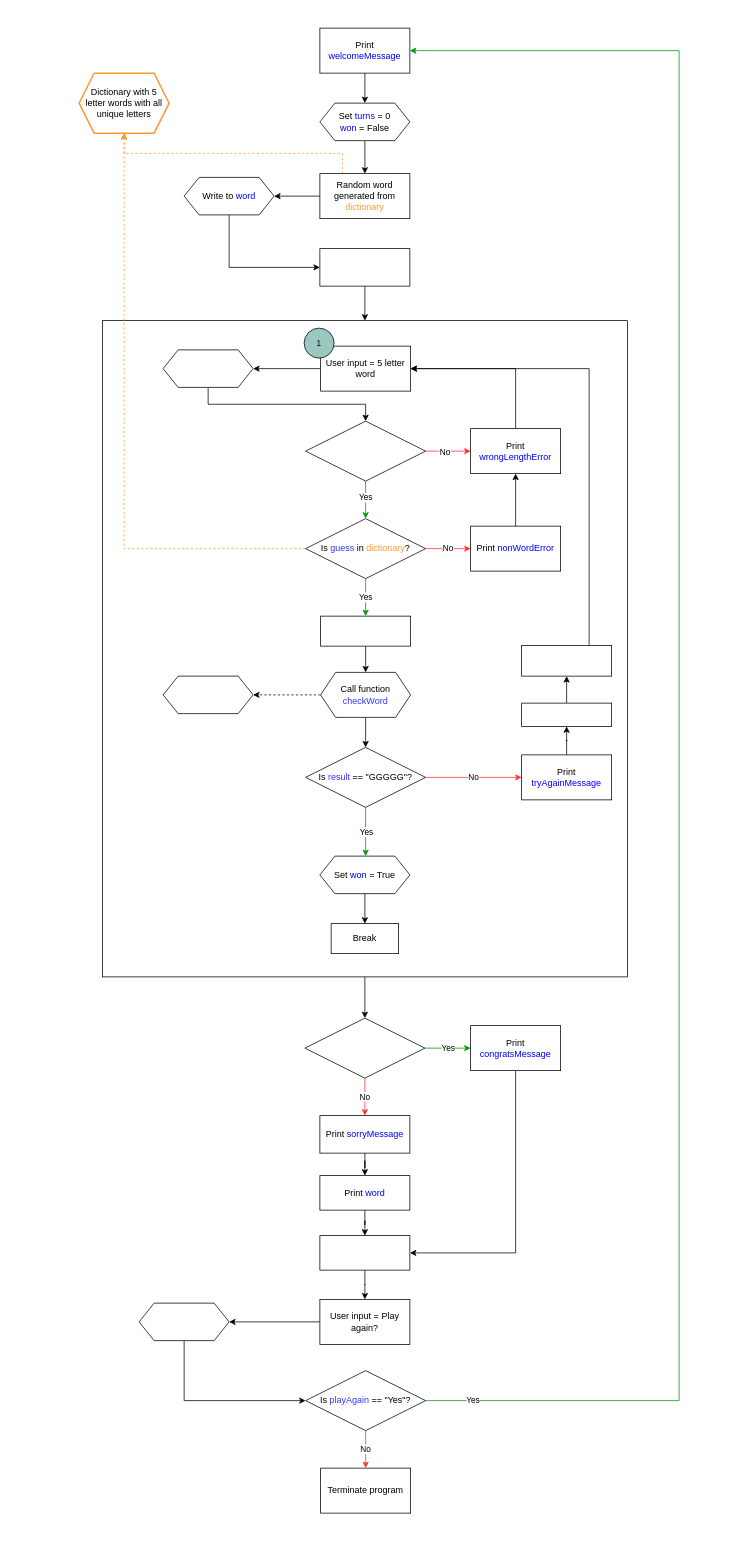
This 731x1548 diagram has some shape labels left out. The centre of each missing label's shape, as x and y in pixels:
"Is guess 5 letters long?" belongs at pixel 365 450.
"Is won == True?" belongs at pixel 364 1047.
"Print playAgainMessage" belongs at pixel 364 1252.
"Print result" belongs at pixel 566 714.
"Print turnsMessage + (6 - turns )" belongs at pixel 566 660.
"Returns result" belongs at pixel 207 694.
"turns += 1" belongs at pixel 365 630.
"While turns is < 6" belongs at pixel 364 267.
"Write lowercase value to guess" belongs at pixel 207 368.
"Write to playAgain" belongs at pixel 183 1321.
